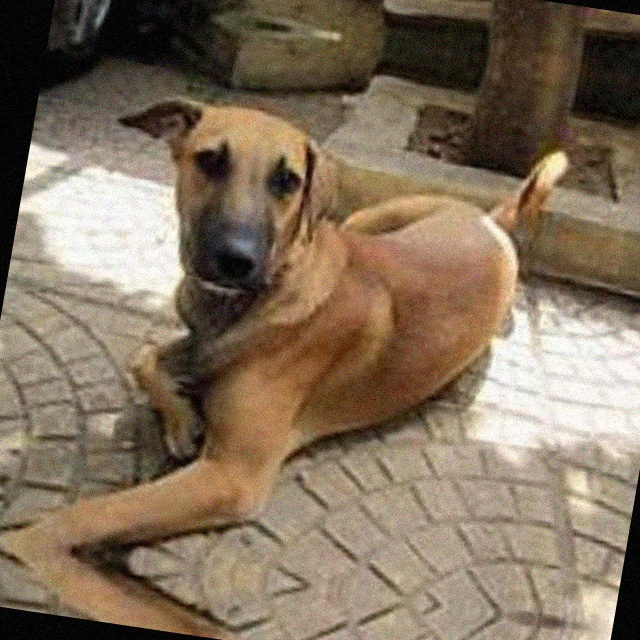dog: (0, 74, 549, 609), (0, 538, 469, 640)
